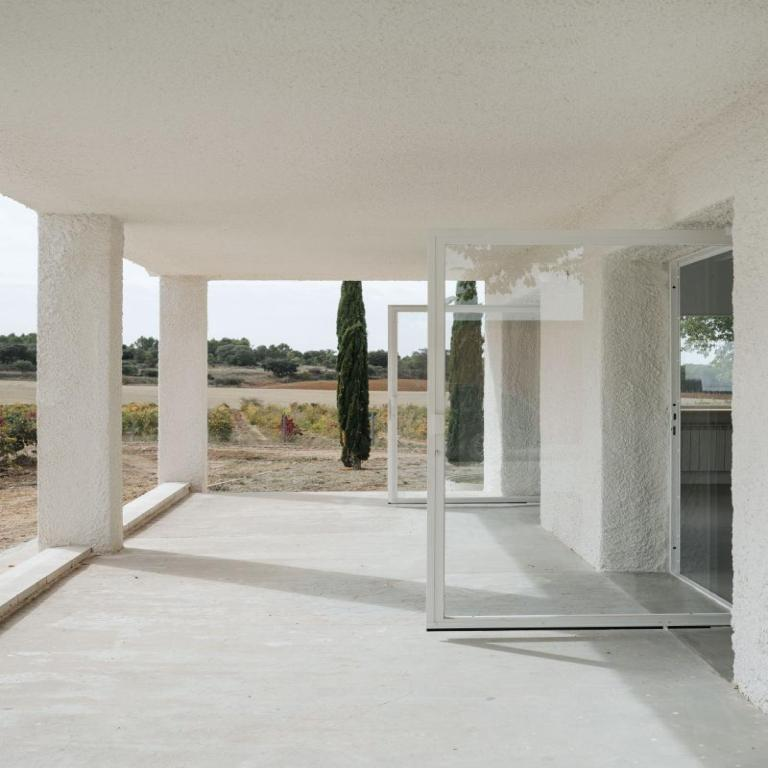white-walls: (16, 39, 739, 269)
